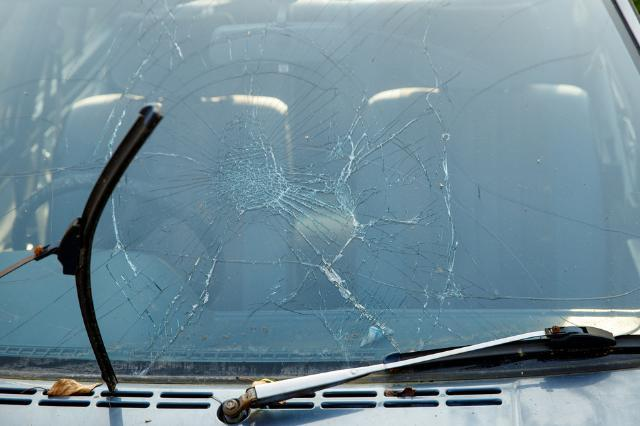Windshield: (0, 0, 640, 398)
